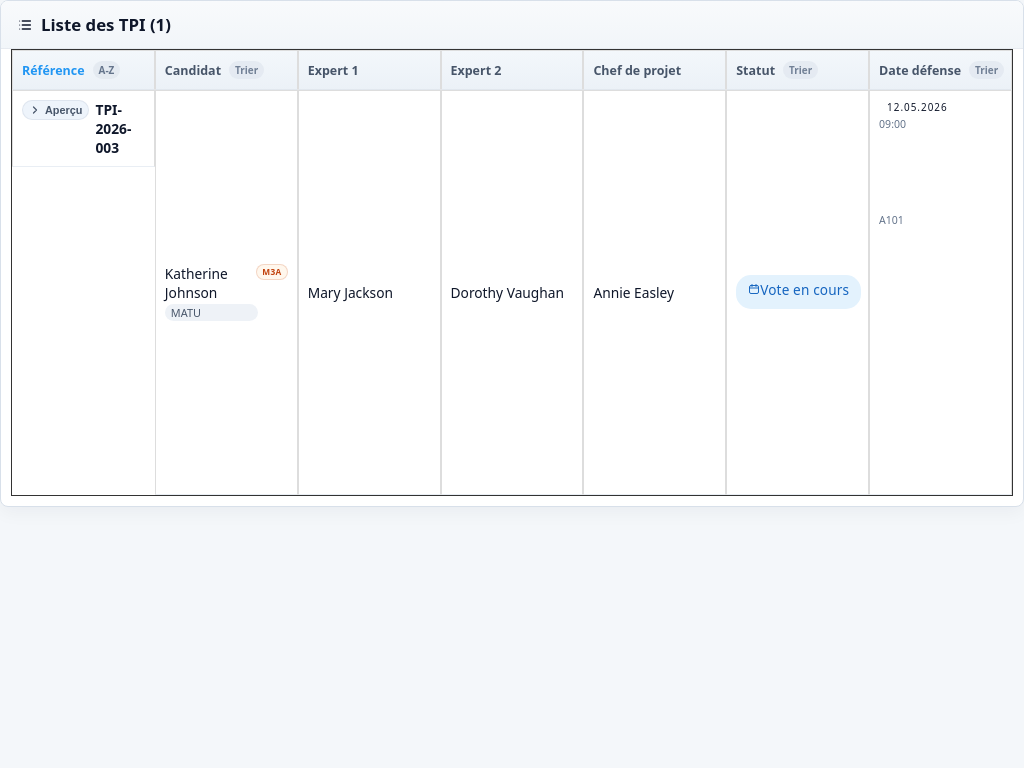
Test case: TpiPlanningList › affiche l'aperçu des créneaux avec les informations de classe
Click the button with aria-label "afficher l'aperçu tpi-2026-003".
click(56, 110)  # box 22,100 -> 90,120
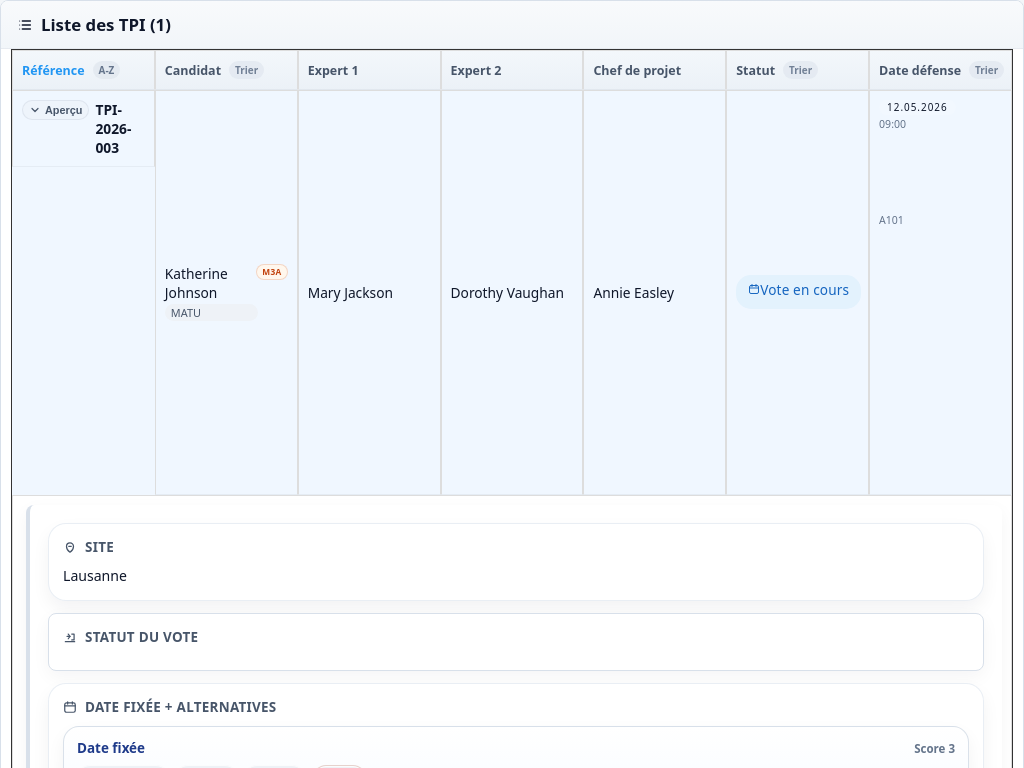
Expected: the text "09:00" is shown, 879,117 -> 906,131
Now the heading "Date fixée + alternatives" is shown, box 63,698 -> 276,716
Now the text "Date fixée" is shown, box 77,739 -> 145,757
